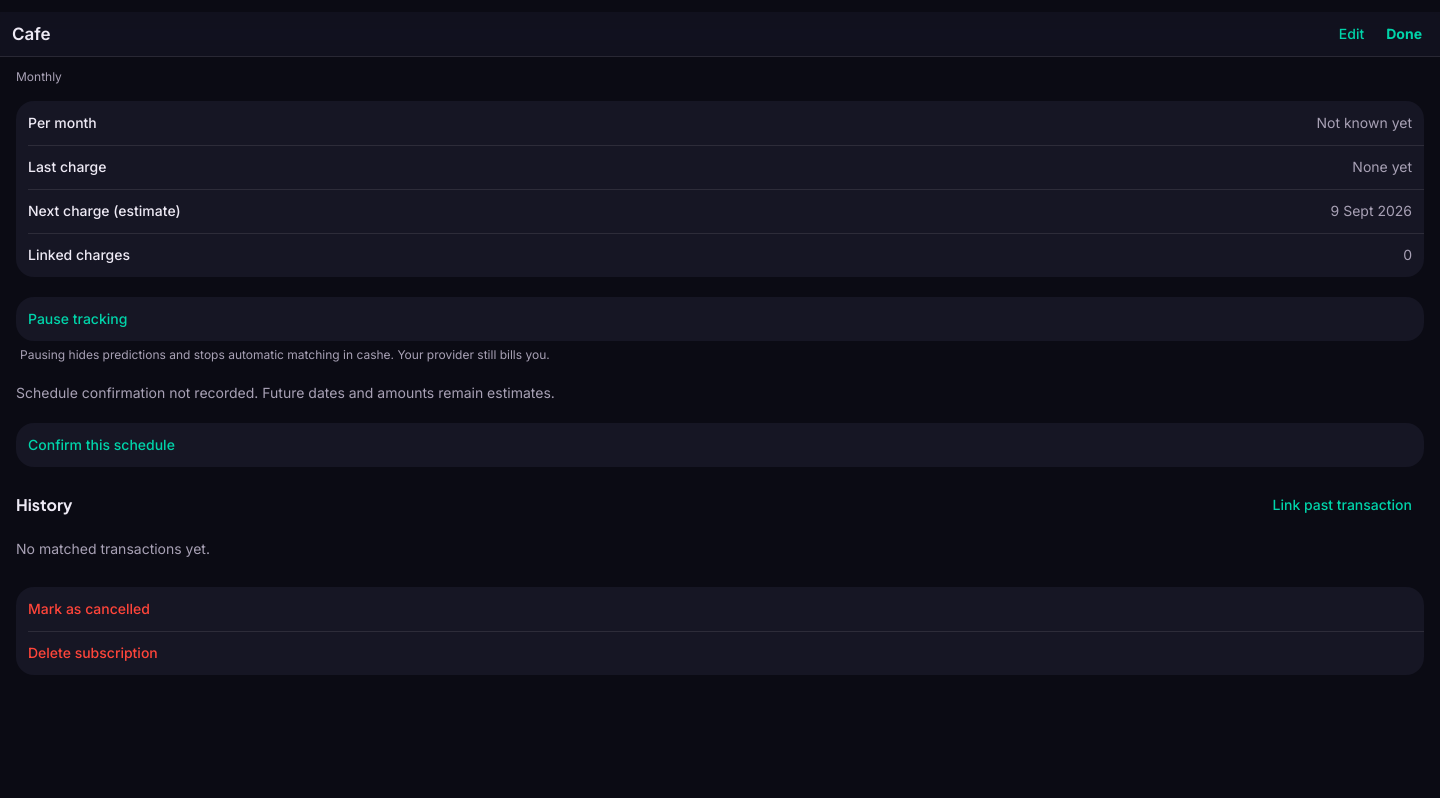
Test: pause and resume explain provider limits and refresh predictions
Click the button "Pause tracking". click: (78, 318)
box: [16, 297, 1424, 341]
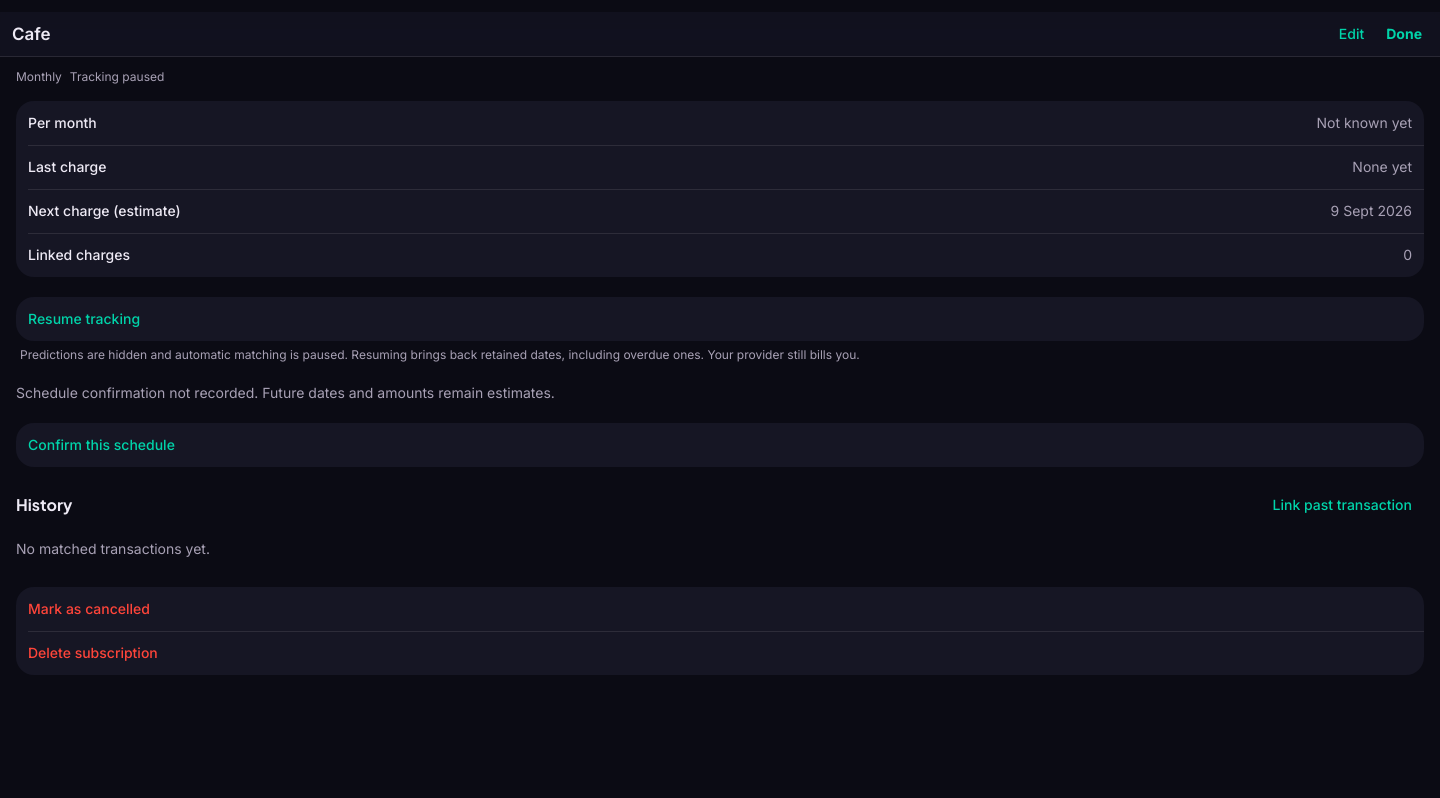
Expected: the text "Your provider still bills you" is shown, [20, 347, 860, 362]
Expected: the button "Resume tracking" is shown
Click the button "Resume tracking". click: (84, 318)
box: [16, 297, 1424, 341]
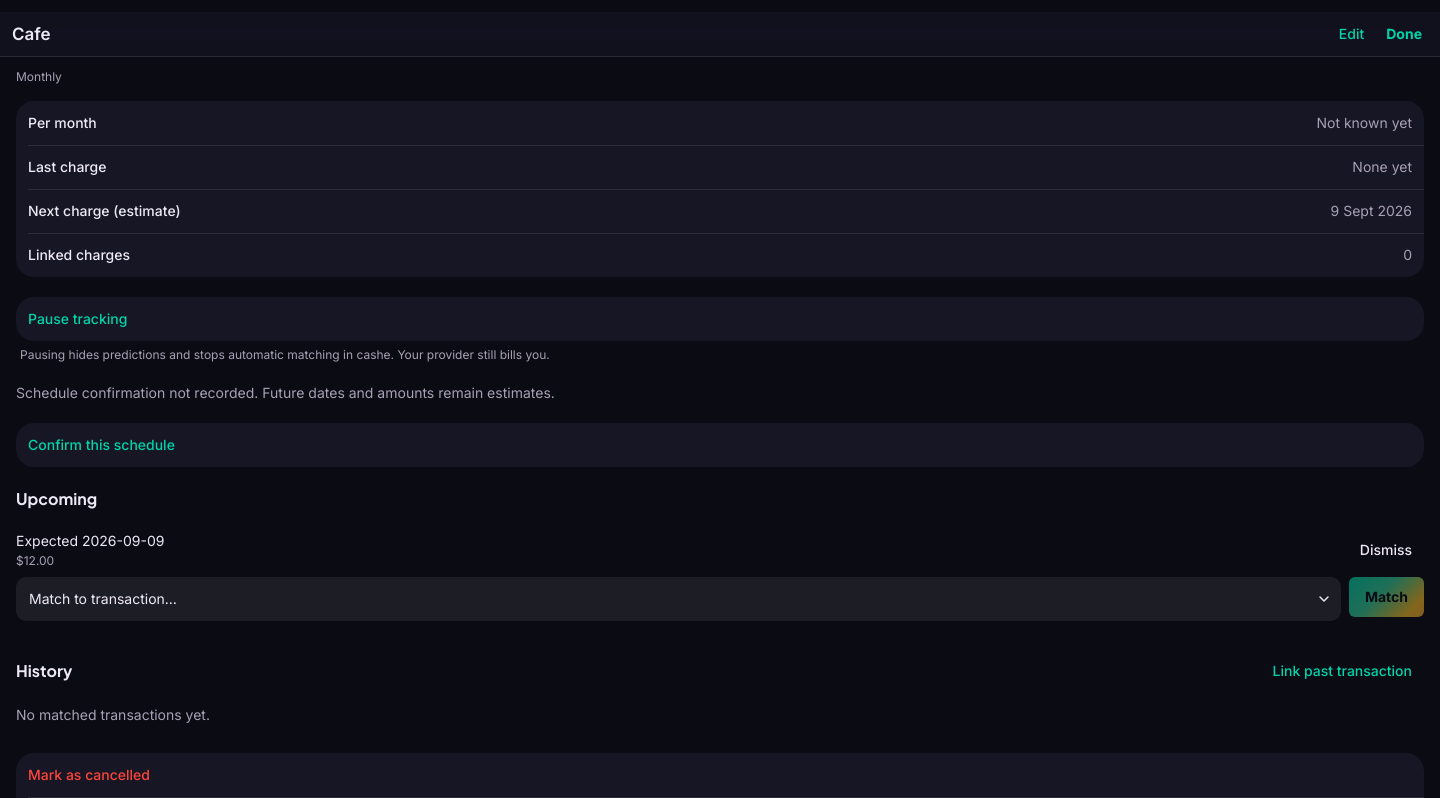
Expected: the button "Pause tracking" is shown, [16, 297, 1424, 341]
Expected: the button "Match" is shown, [1349, 577, 1424, 617]
